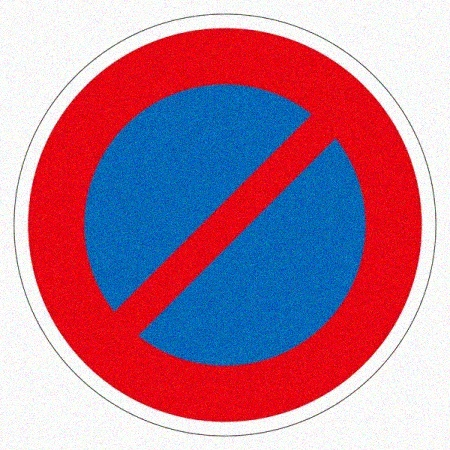Prohibition_sign: (1, 1, 450, 443)
